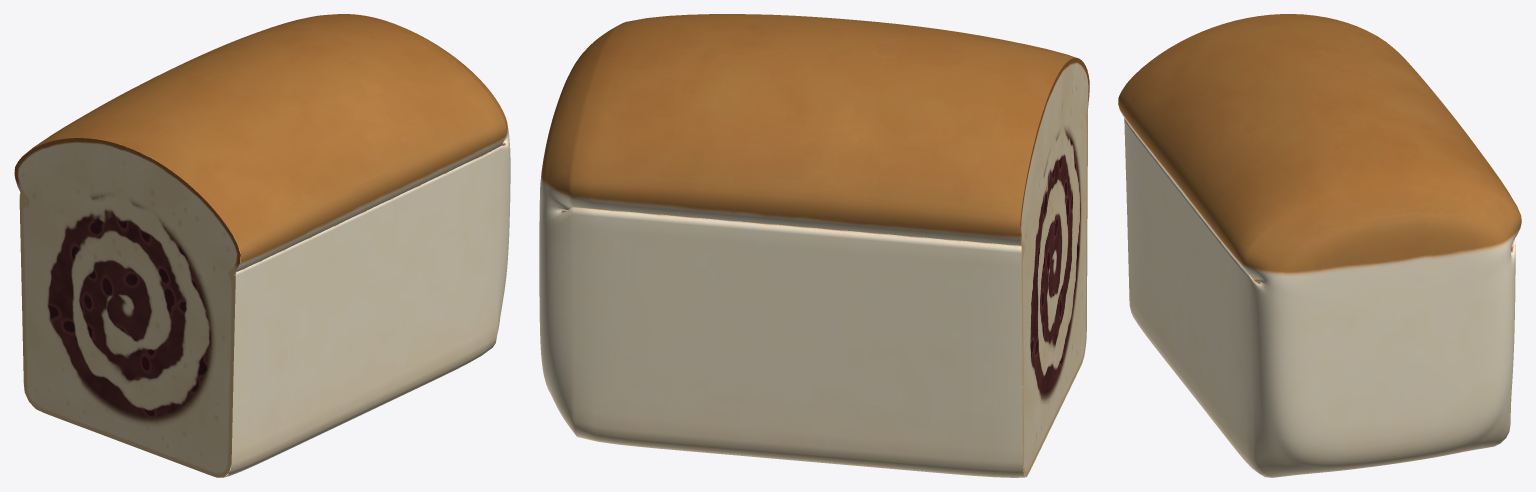
The model's file is loaf--redbean-swirl.glb.
3 renders of one model, left to right at view 1: azimuth 30°, elevation 25°; view 2: azimuth 150°, elevation 25°; view 3: azimuth 270°, elevation 25°, orthographic. The views are drawn at different scales.
Parts seen in each view (by area): view 1: loaf_redbean-swirl; view 2: loaf_redbean-swirl; view 3: loaf_redbean-swirl.
Part boxes in pixels (x1=…): loaf_redbean-swirl: x1=14, y1=14, x2=510, y2=477; loaf_redbean-swirl: x1=539, y1=14, x2=1089, y2=477; loaf_redbean-swirl: x1=1118, y1=14, x2=1521, y2=477.
Bounding box in the file's own units: 1.02 × 0.7199 × 0.8447.
1 material, 1 textured.
